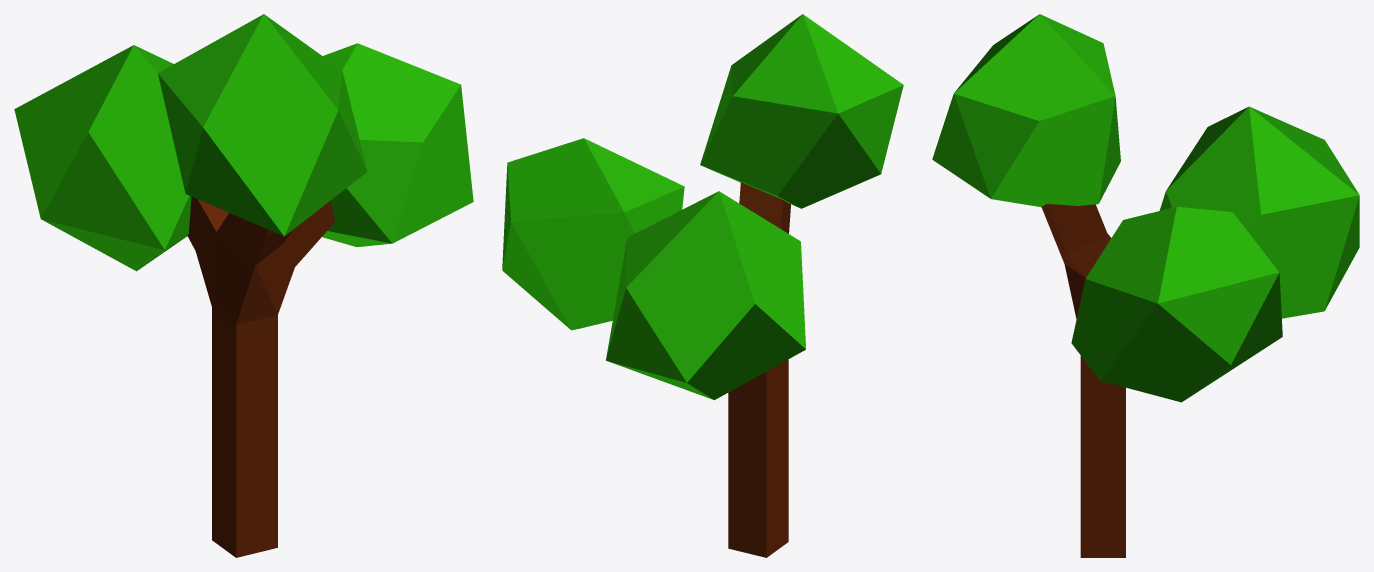
3 renders of one model, left to right at view 1: azimuth 30°, elevation 25°; view 2: azimuth 150°, elevation 25°; view 3: azimuth 270°, elevation 25°, orthographic. The views are drawn at different scales.
Parts seen in each view (by area): view 1: LowPolyTree small; view 2: LowPolyTree small; view 3: LowPolyTree small.
Part boxes in pixels (x1=…): LowPolyTree small: x1=14, y1=14, x2=473, y2=557; LowPolyTree small: x1=502, y1=14, x2=903, y2=557; LowPolyTree small: x1=932, y1=14, x2=1359, y2=557.
Size of the model in its own units: 4.47 by 6.39 by 4.69.
